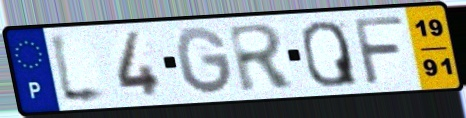4: (114, 29, 165, 100)
F: (350, 14, 407, 88)
G: (172, 24, 236, 98)
L: (46, 29, 113, 108)
Q: (299, 18, 361, 89)
R: (224, 21, 299, 95)
